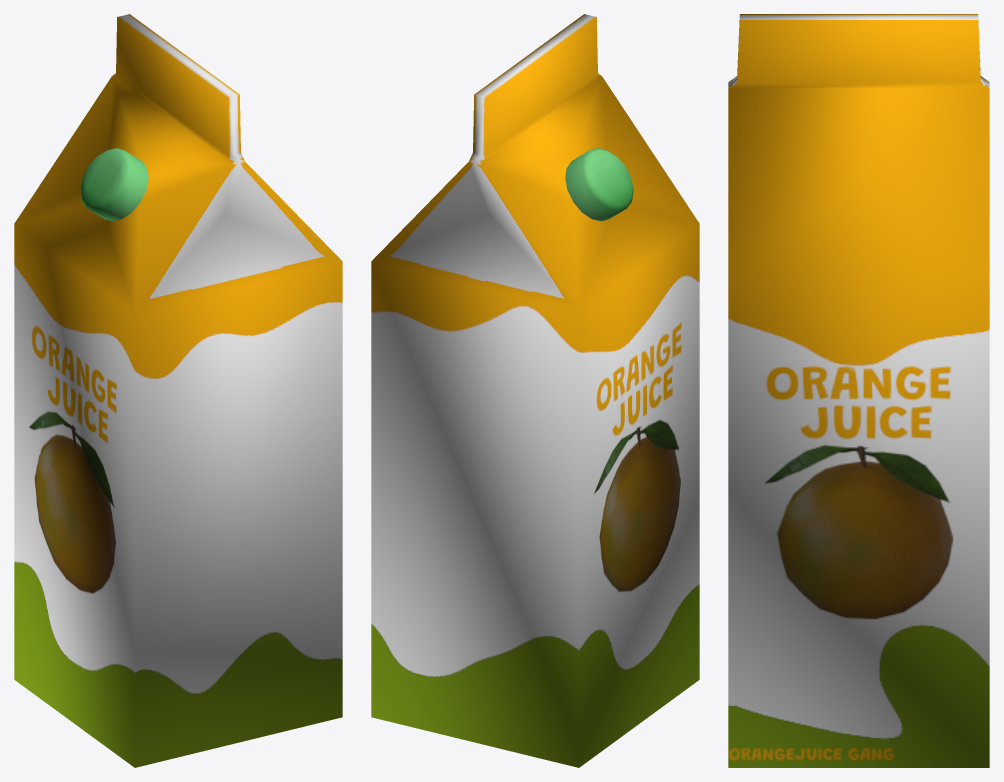
File: Jj-Juice.glb
3 renders of one model, left to right at view 1: azimuth 30°, elevation 25°; view 2: azimuth 150°, elevation 25°; view 3: azimuth 270°, elevation 25°, orthographic. The views are drawn at different scales.
Parts seen in each view (by area): view 1: orangejuicegfx_5, bouchon.004_4; view 2: orangejuicegfx_5, bouchon.004_4; view 3: orangejuicegfx_5.
Boxes of the visible parts, left/top/right/bottom form: orangejuicegfx_5: left=14, top=14, right=342, bottom=767; bouchon.004_4: left=80, top=148, right=148, bottom=221; orangejuicegfx_5: left=371, top=14, right=699, bottom=767; bouchon.004_4: left=565, top=148, right=633, bottom=221; orangejuicegfx_5: left=728, top=14, right=989, bottom=767.
Size of the model in its own units: 0.3434 by 1.01 by 0.3453.
1 material, 1 textured.
